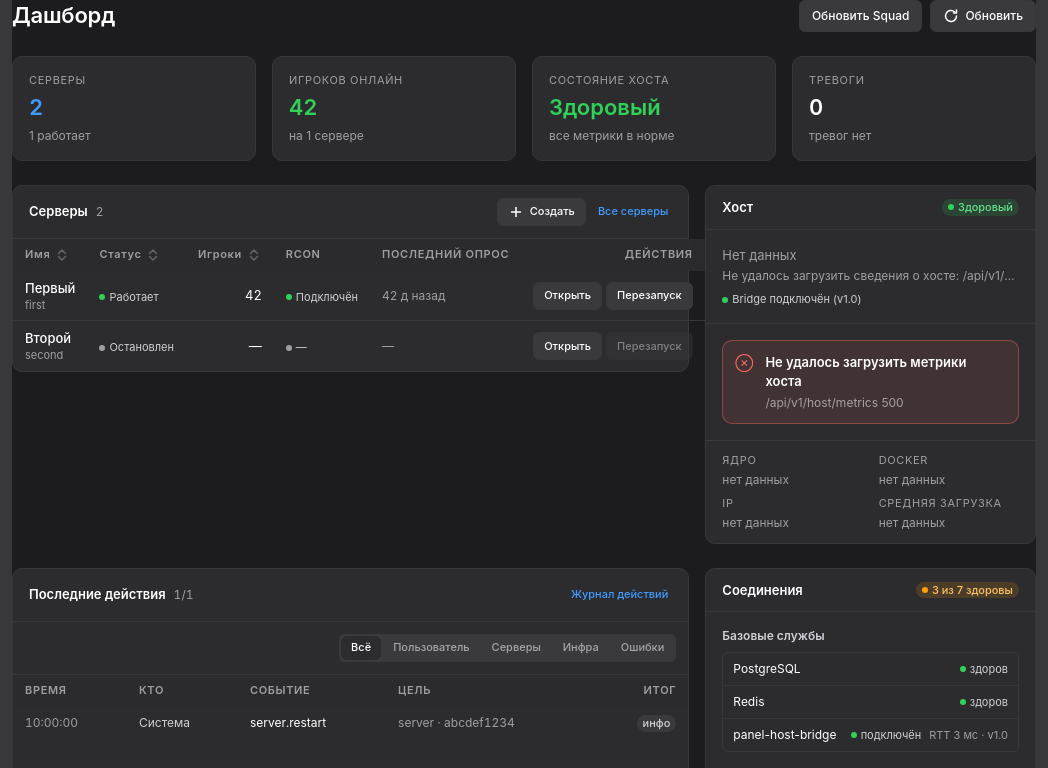
it: DashboardPage › separates an empty activity feed from one emptied by the filter
Expected: the text "server.restart" is shown, x1=238 y1=707 x2=386 y2=739
Step 1. Click the tab "Ошибки" → (643, 648), box x1=611 y1=636 x2=674 y2=660
(page scrolled)
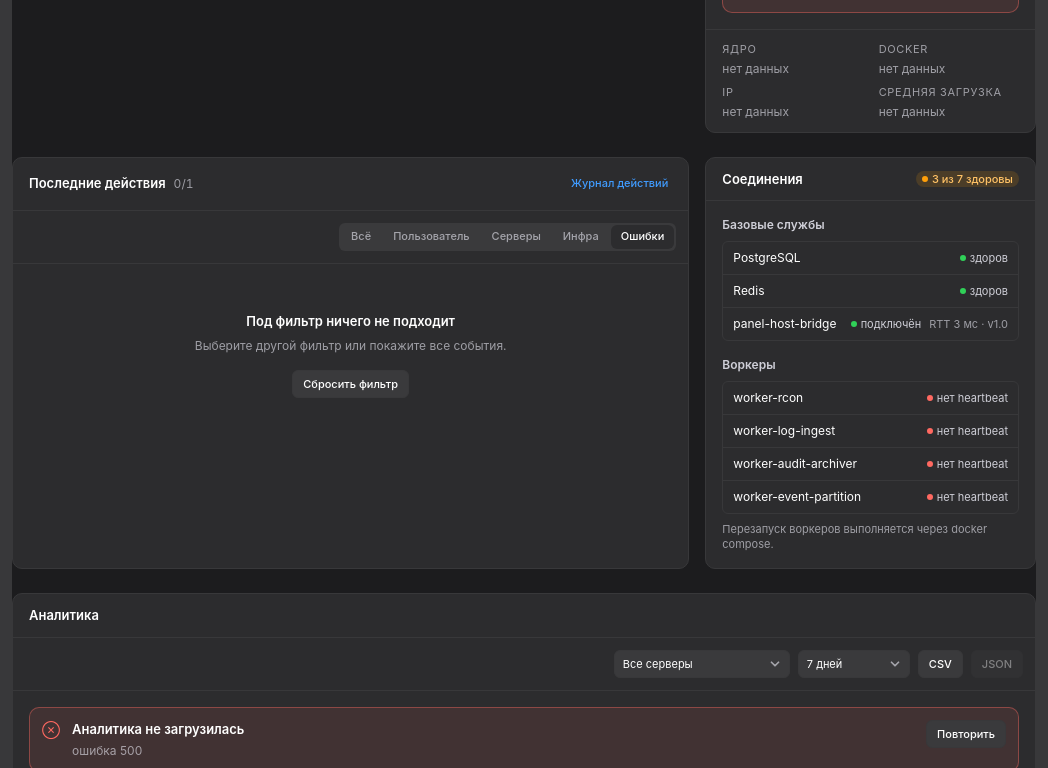
Step 2. Click the button "Сбросить фильтр" → (351, 384), box x1=292 y1=370 x2=409 y2=398
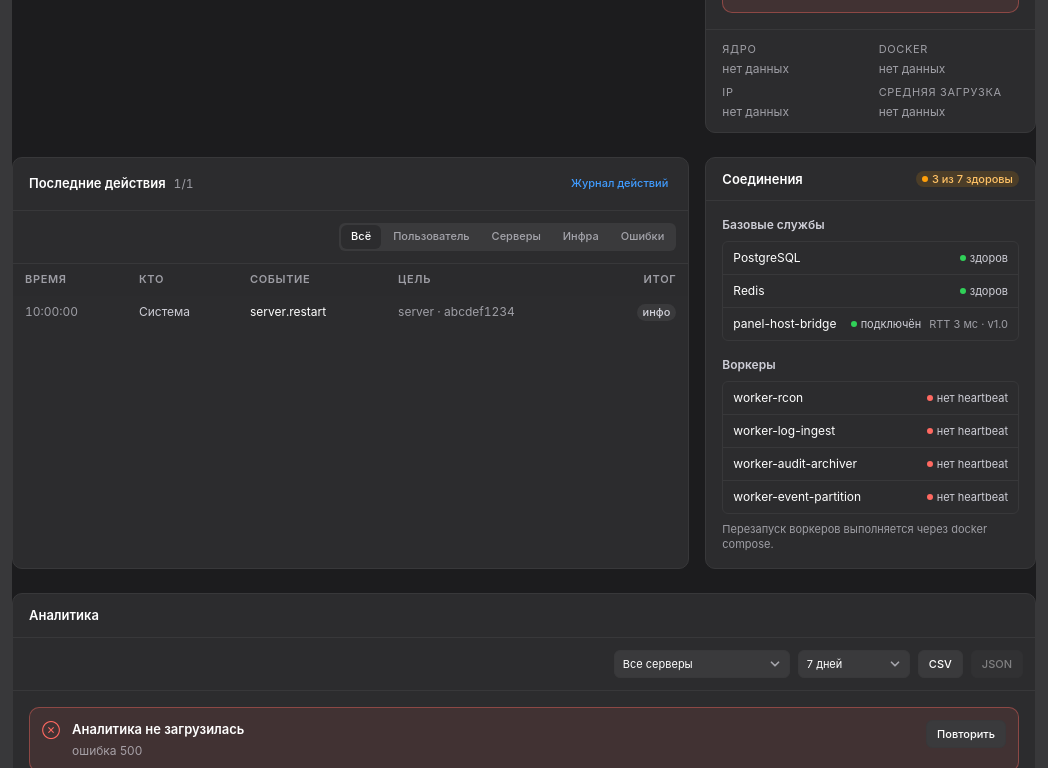
Now the text "server.restart" is shown, box x1=238 y1=296 x2=386 y2=328
